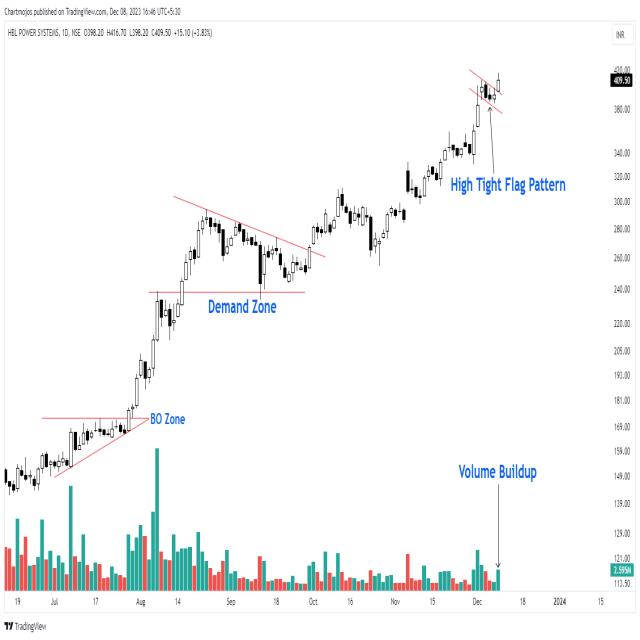Ascending-Triangle: (21, 418, 147, 500)
Descending-Triangle: (140, 198, 398, 289)
